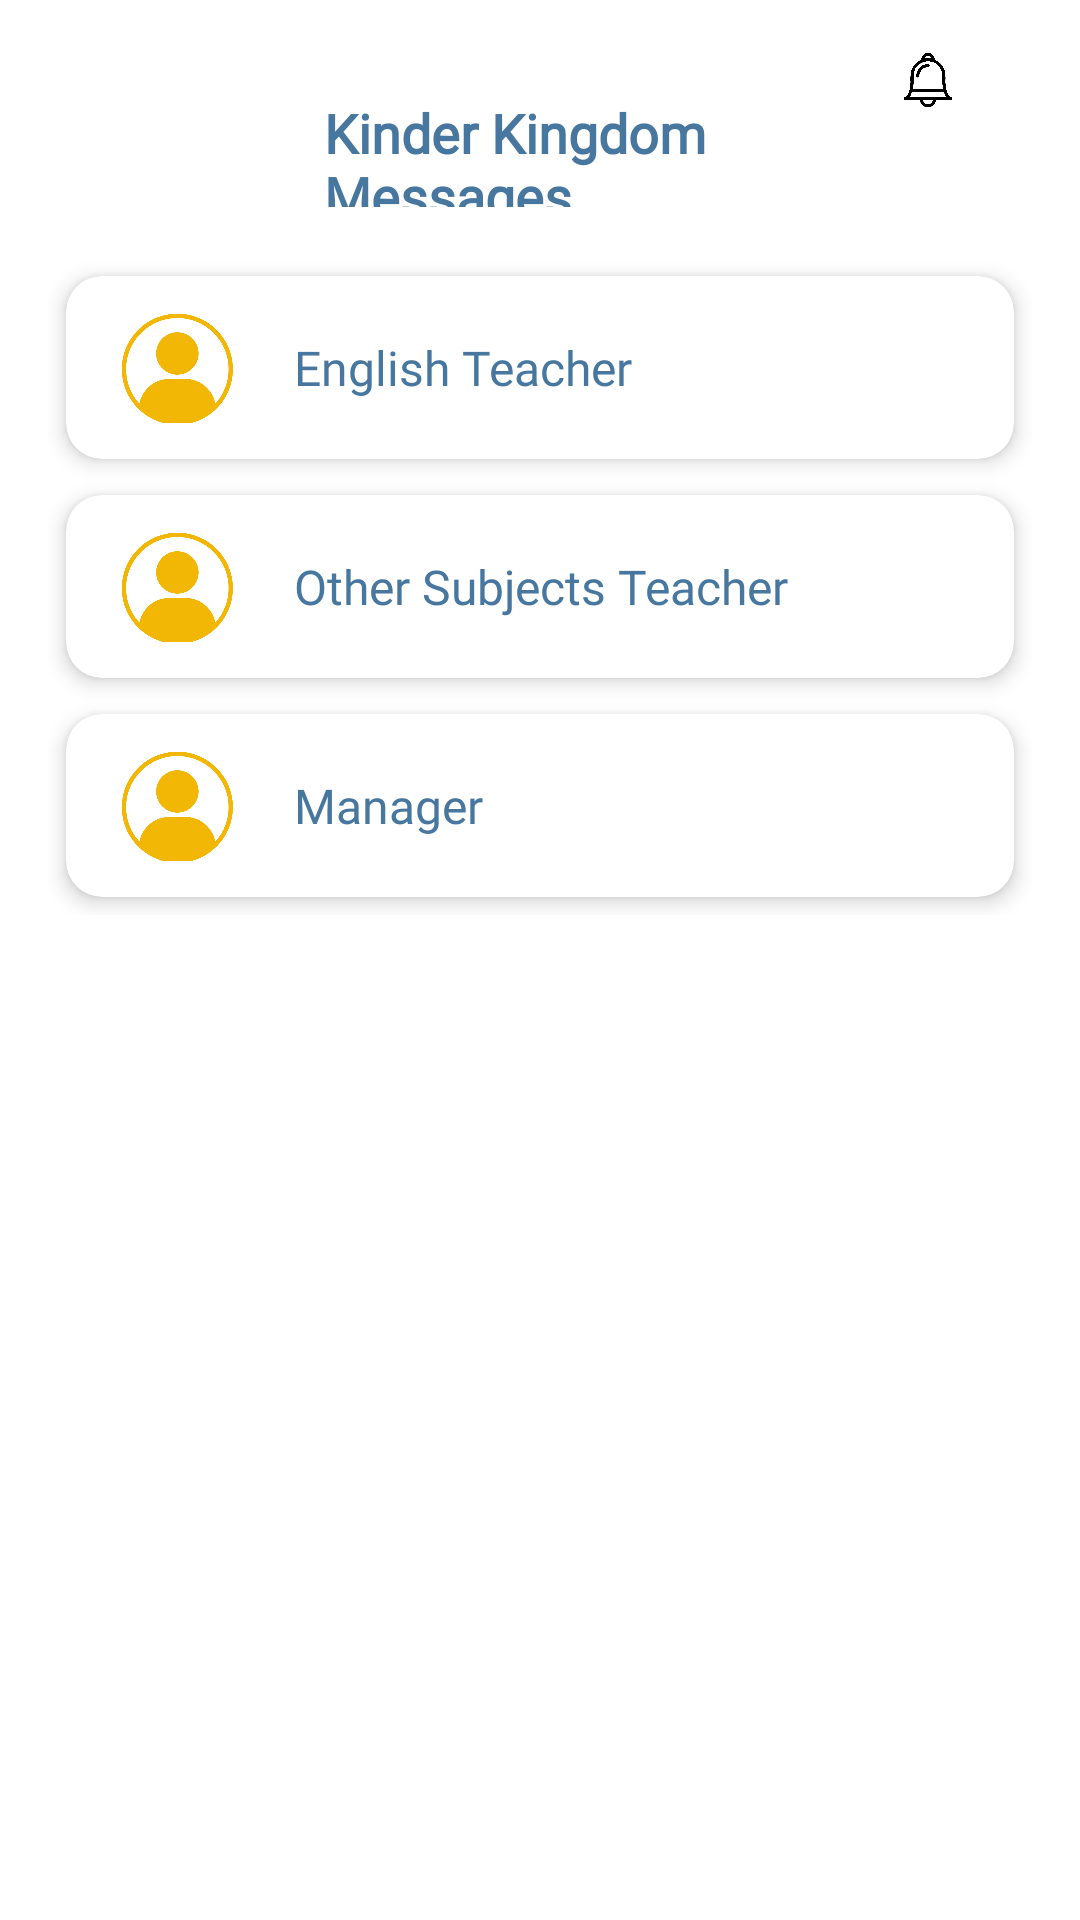

Icons on this 1080 × 1920 Android screen, each with the point to tap as (x,y):
bellicon: (928,80)
profile: (177,368), (177,587), (177,806)
